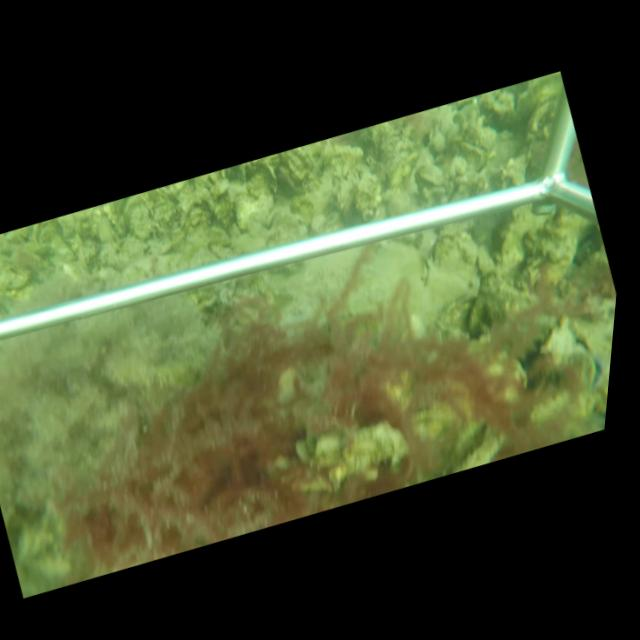Oyster-Closed: (421, 232, 482, 308)
Oyster-Indeterminate: (233, 163, 277, 231)
